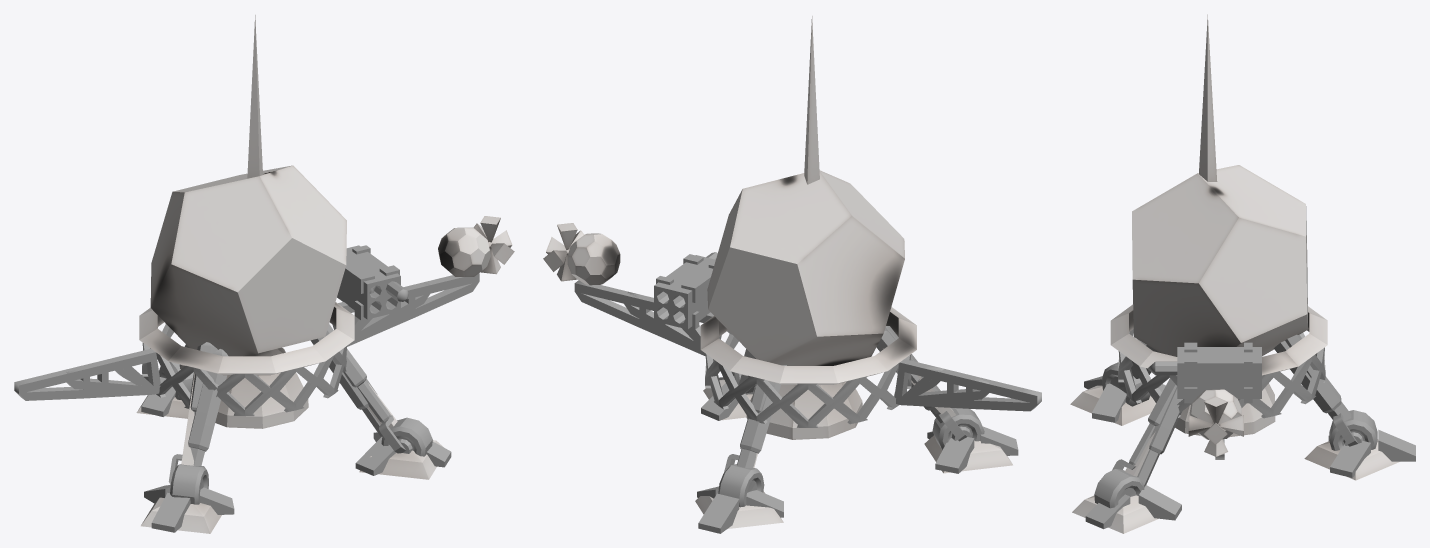
File: Lander_v07.fbx
3 renders of one model, left to right at view 1: azimuth 30°, elevation 25°; view 2: azimuth 150°, elevation 25°; view 3: azimuth 270°, elevation 25°, orthographic.
Parts seen in each view (by area): view 1: Hull_01, wing_09, wing_08, thruster_left, miss_launcher_01, pCylinder10 (×2), pCone8, pSphere8, lander_v09:pCone6, lander_v09:pCone5, pCube19 (×2), pCylinder13 (+3 smaller); view 2: Hull_01, wing_09, miss_launcher_01, thruster_left, wing_08, pCylinder10 (×2), pCube14 (×2), lander_v09:pCone6, pCone8, wing_07, pCone4, pCube20 (+1 smaller); view 3: Hull_01, miss_launcher_01, pCylinder10 (×3), thruster_left, pCube19 (×2), lander_v09:pCone6, pCube14 (×2), lander_v09:pCone5, pCone4, pCone8, pCylinder13 (×2), pSphere2 (+3 smaller).
Boxes of the visible parts, x1,y1,x2,y2 form: Hull_01: (139,165,354,428); wing_09: (14,273,479,400); wing_08: (66,281,430,393); thruster_left: (438,216,514,276); miss_launcher_01: (337,245,400,320); pCylinder10 (×2): (170,417,432,504); pCone8: (141,373,221,533); pSphere8: (188,349,228,451); lander_v09:pCone6: (247,15,262,178); lander_v09:pCone5: (359,383,442,479); pCube19 (×2): (141,377,234,514); pCylinder13: (357,380,412,453); Hull_01: (700,170,916,439); wing_09: (574,280,1041,411); miss_launcher_01: (654,254,715,329); thruster_left: (543,223,620,285); wing_08: (624,291,989,400); pCylinder10 (×2): (718,408,984,507); pCube14 (×2): (698,426,1018,533); lander_v09:pCone6: (804,16,819,184); pCone8: (883,348,1012,473); wing_07: (682,313,943,405); pCone4: (695,453,783,528); pCube20: (935,437,974,473); Hull_01: (1110,165,1327,437); miss_launcher_01: (1177,342,1261,403); pCylinder10 (×3): (1094,362,1377,508); thruster_left: (1188,389,1243,456); pCube19 (×2): (1092,383,1181,520); lander_v09:pCone6: (1199,14,1217,181); pCube14 (×2): (1085,429,1415,529); lander_v09:pCone5: (1072,431,1158,533); pCone4: (1304,439,1399,480); pCone8: (1070,385,1155,425); pCylinder13 (×2): (1112,413,1363,470); pSphere2: (1149,386,1182,454).
Bounding box in the file's own units: 30.1 × 26.3 × 18.33.
